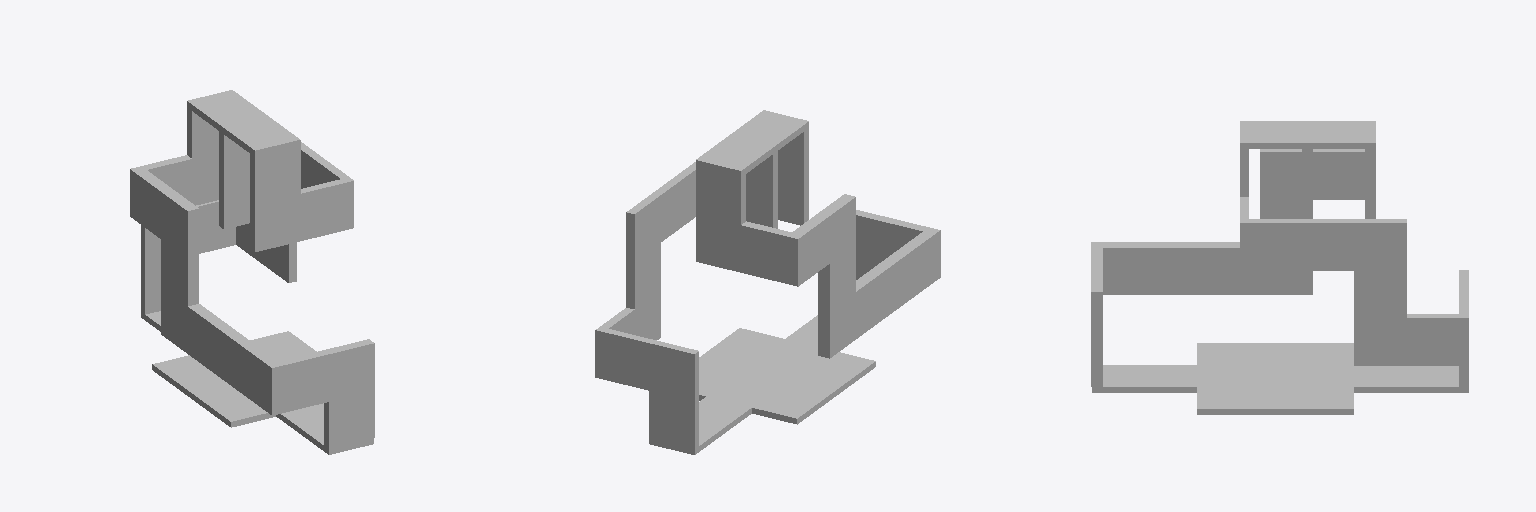
Rendered from Level 1.obj.
3 renders of one model, left to right at view 1: azimuth 30°, elevation 25°; view 2: azimuth 150°, elevation 25°; view 3: azimuth 270°, elevation 25°, orthographic.
Visible parts, largest first — view 1: Cube; view 2: Cube; view 3: Cube.
Boxes of the visible parts, box(x1,y1,x2,y2) form: Cube: box(130, 90, 374, 454); Cube: box(595, 110, 940, 454); Cube: box(1091, 121, 1468, 414).
Bounding box in the file's own units: 5.5 × 8.41 × 11.48.